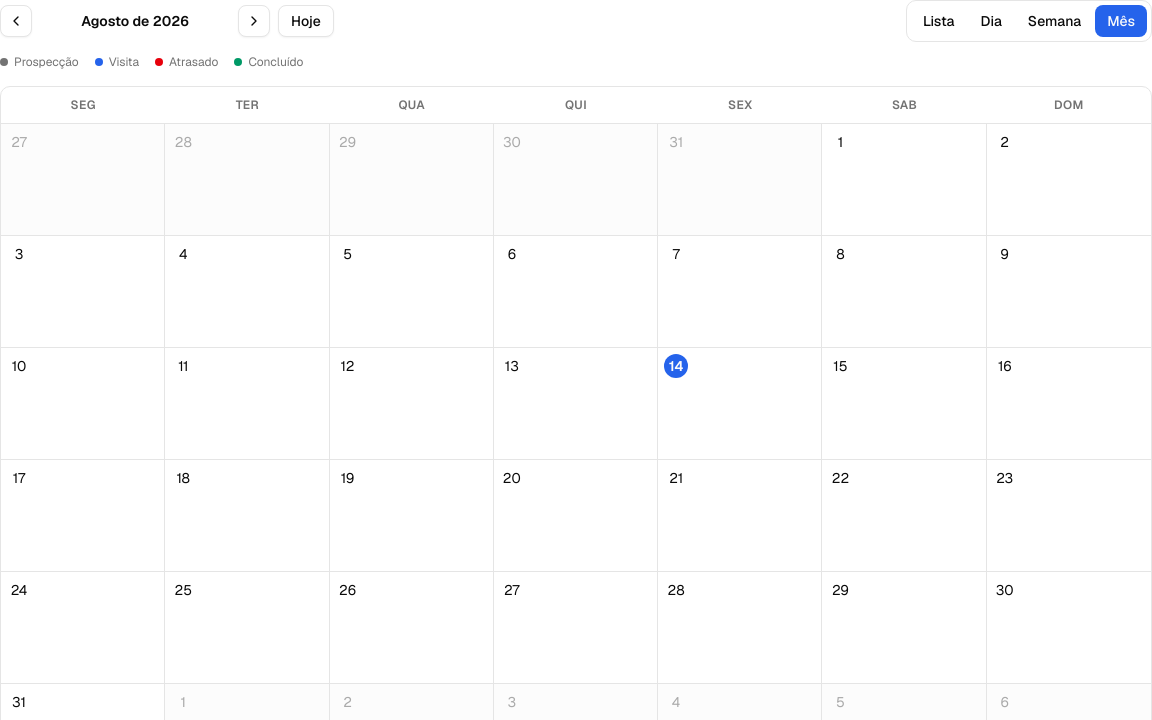
Test: AgendaCalendario › fechar o diálogo o remove
Click the button "14".
click(740, 404)  # box [658, 348, 822, 460]
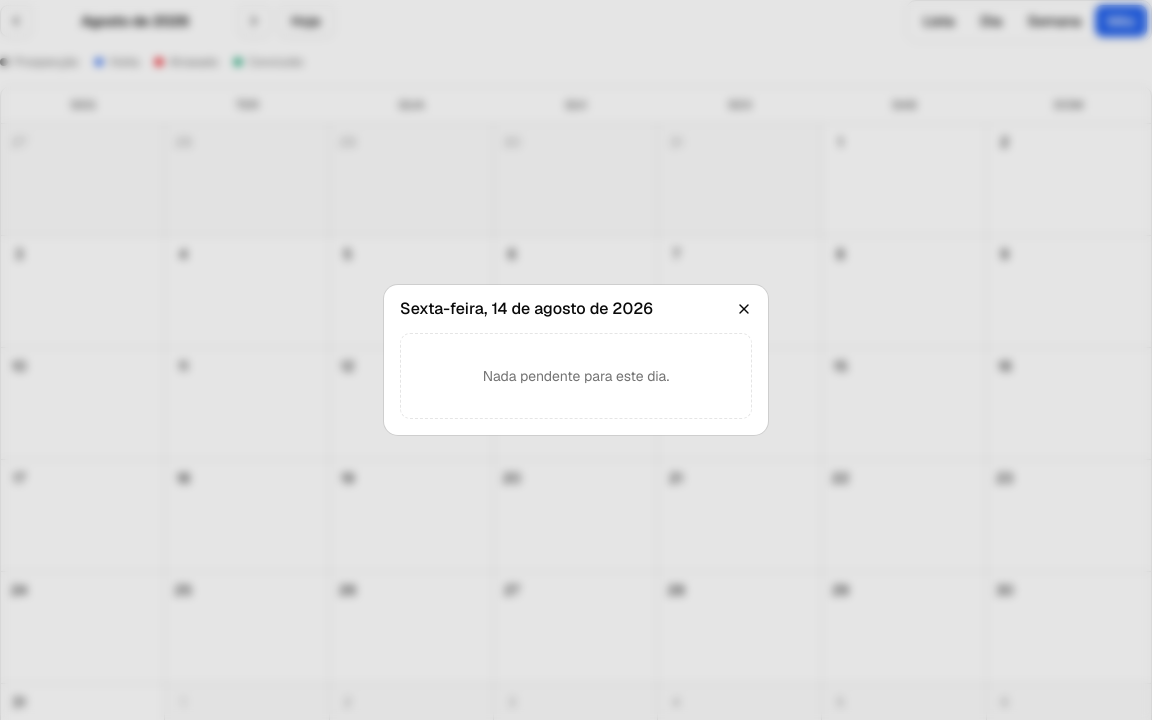
expect the dialog is shown: met, box [384, 285, 768, 435]
Click the button named "close".
click(744, 309)  # box [728, 293, 760, 325]
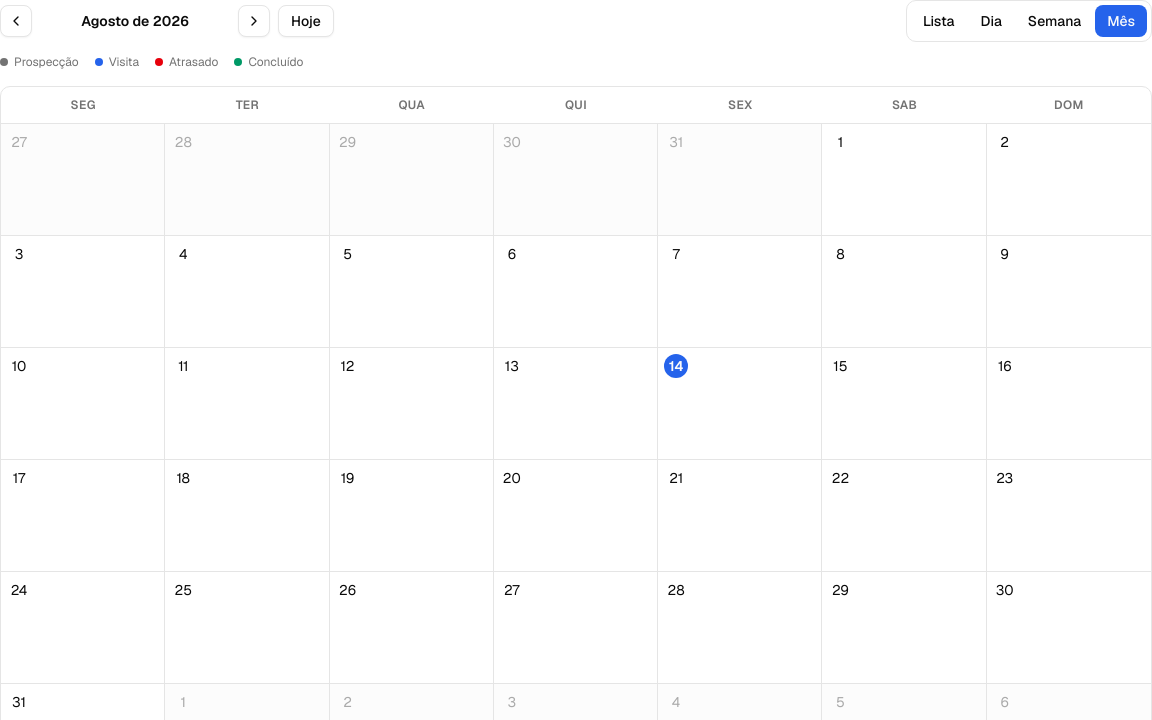
expect the dialog is gone: met
